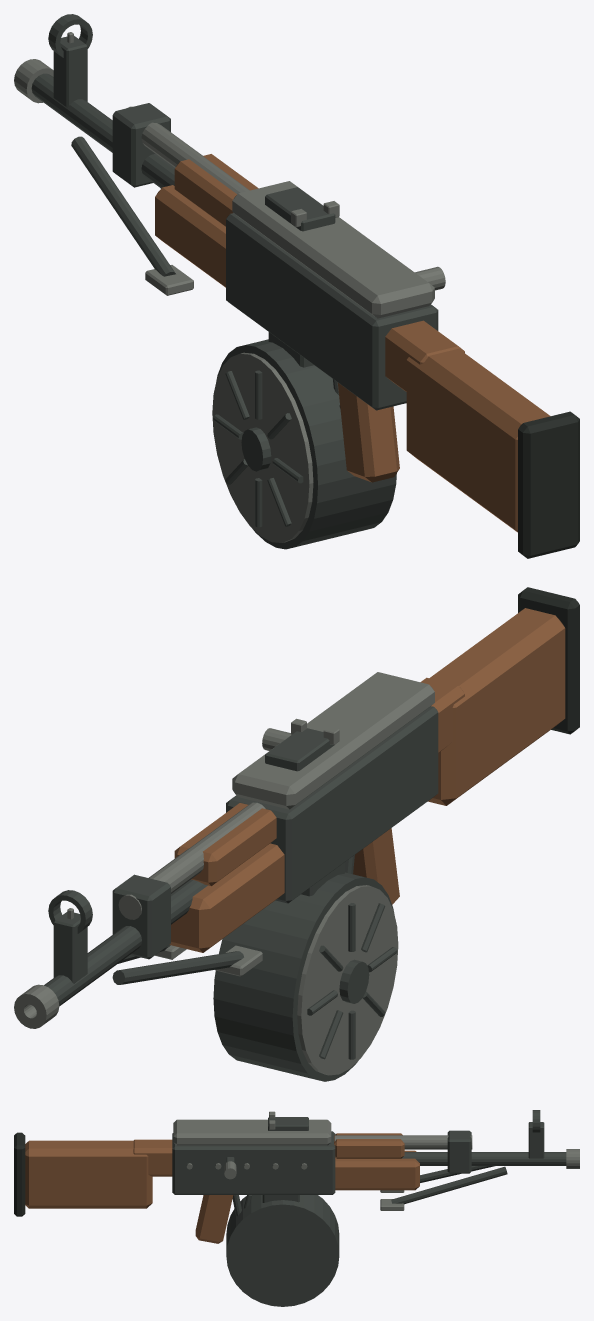
The model's file is rpk-support.glb.
3 renders of one model, top to bottom at view 1: azimuth 30°, elevation 25°; view 2: azimuth 150°, elevation 25°; view 3: azimuth 270°, elevation 25°, orthographic. The views are drawn at different scales.
Parts seen in each view (by area): view 1: RPKBody_phosphate steel, RPKBody_oiled wood, Magazine_phosphate steel, RPKBody_worn edges, Magazine_worn edges, RPKBody_black rubber; view 2: RPKBody_oiled wood, RPKBody_phosphate steel, Magazine_phosphate steel, RPKBody_worn edges, Magazine_worn edges, RPKBody_black rubber; view 3: RPKBody_oiled wood, RPKBody_phosphate steel, Magazine_phosphate steel, RPKBody_worn edges, RPKBody_black rubber.
Part boxes in pixels (<box>): RPKBody_phosphate steel: <box>31,14,438,410</box>; RPKBody_oiled wood: <box>155,154,550,532</box>; Magazine_phosphate steel: <box>213,332,396,549</box>; RPKBody_worn edges: <box>14,32,434,318</box>; Magazine_worn edges: <box>212,352,313,542</box>; RPKBody_black rubber: <box>518,411,579,558</box>; RPKBody_oiled wood: <box>169,608,565,952</box>; RPKBody_phosphate steel: <box>44,706,438,1006</box>; Magazine_phosphate steel: <box>213,862,397,1081</box>; RPKBody_worn edges: <box>14,672,434,1028</box>; Magazine_worn edges: <box>297,885,398,1075</box>; RPKBody_black rubber: <box>518,587,579,734</box>; RPKBody_oiled wood: <box>25,1133,419,1243</box>; RPKBody_phosphate steel: <box>172,1110,566,1216</box>; Magazine_phosphate steel: <box>226,1195,339,1306</box>; RPKBody_worn edges: <box>173,1111,579,1210</box>; RPKBody_black rubber: <box>14,1132,25,1216</box>.
Bounding box in the file's own units: 0.1705 × 0.402 × 1.11.
